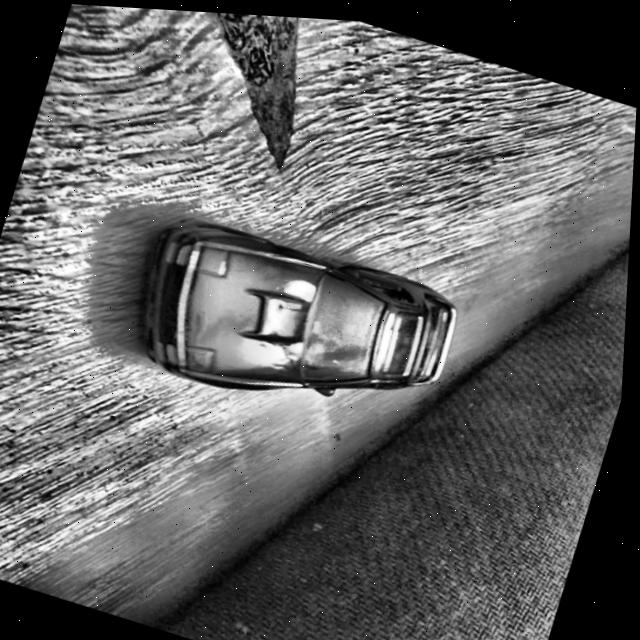car: (119, 199, 473, 448)
